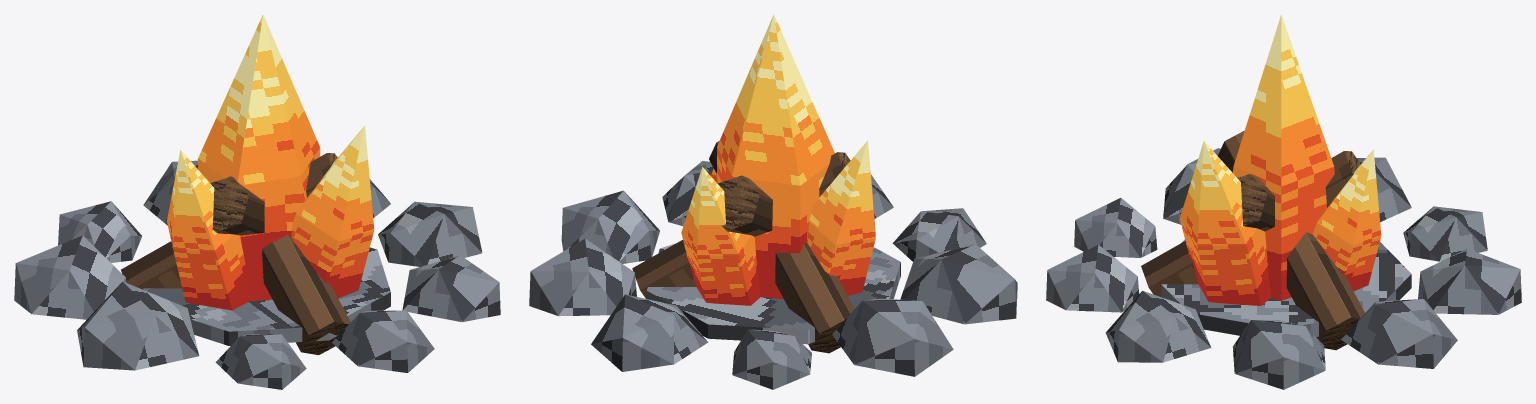
The model's file is campfire.glb.
3 renders of one model, left to right at view 1: azimuth 30°, elevation 25°; view 2: azimuth 150°, elevation 25°; view 3: azimuth 270°, elevation 25°, orthographic.
Parts seen in each view (by area): view 1: campfire; view 2: campfire; view 3: campfire.
Part boxes in pixels (left/top/right/bottom): campfire: left=14, top=14, right=500, bottom=389; campfire: left=529, top=14, right=1017, bottom=389; campfire: left=1046, top=14, right=1521, bottom=389.
Size of the model in its own units: 0.8856 by 0.6 by 0.8738.
3 materials, 3 textured.
